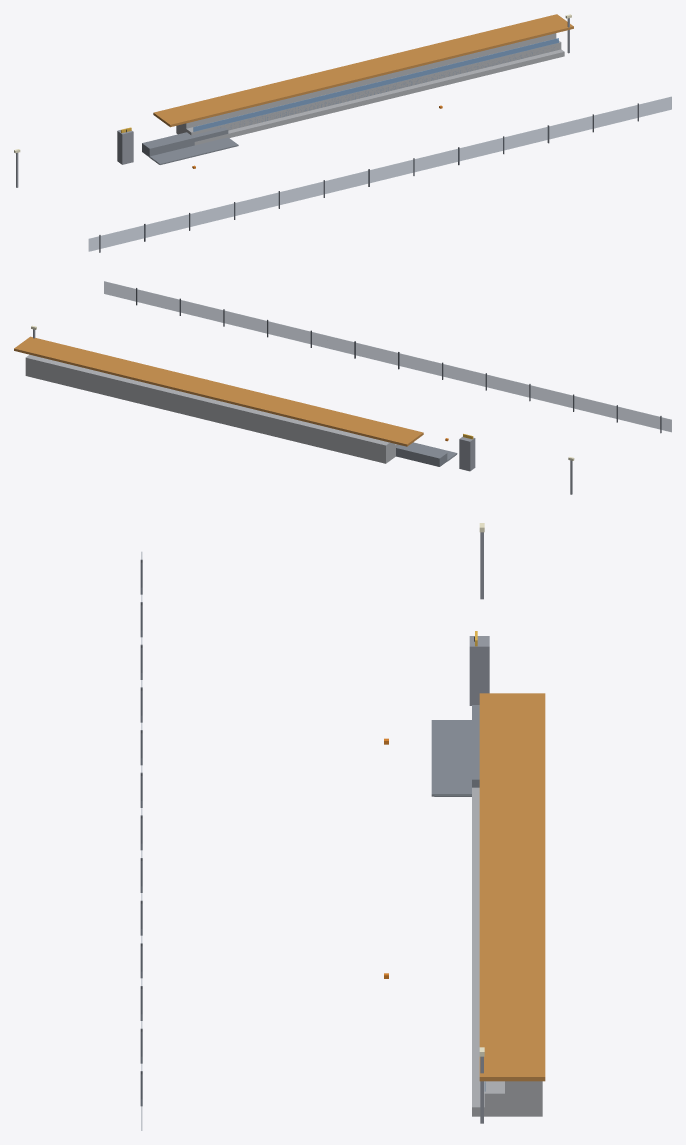
Rendered from venue_5.obj.
3 views of the same model, one above another, from view 1: azimuth 30°, elevation 25°; view 2: azimuth 150°, elevation 25°; view 3: azimuth 270°, elevation 25° (orthographic). The views are drawn at different scales.
Size of the model in its own units: 520 by 32 by 160.
